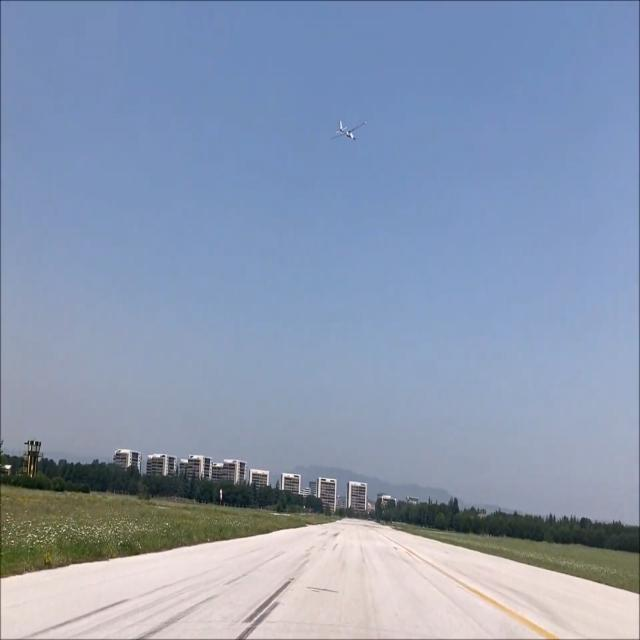Airplane: (328, 116, 369, 146)
